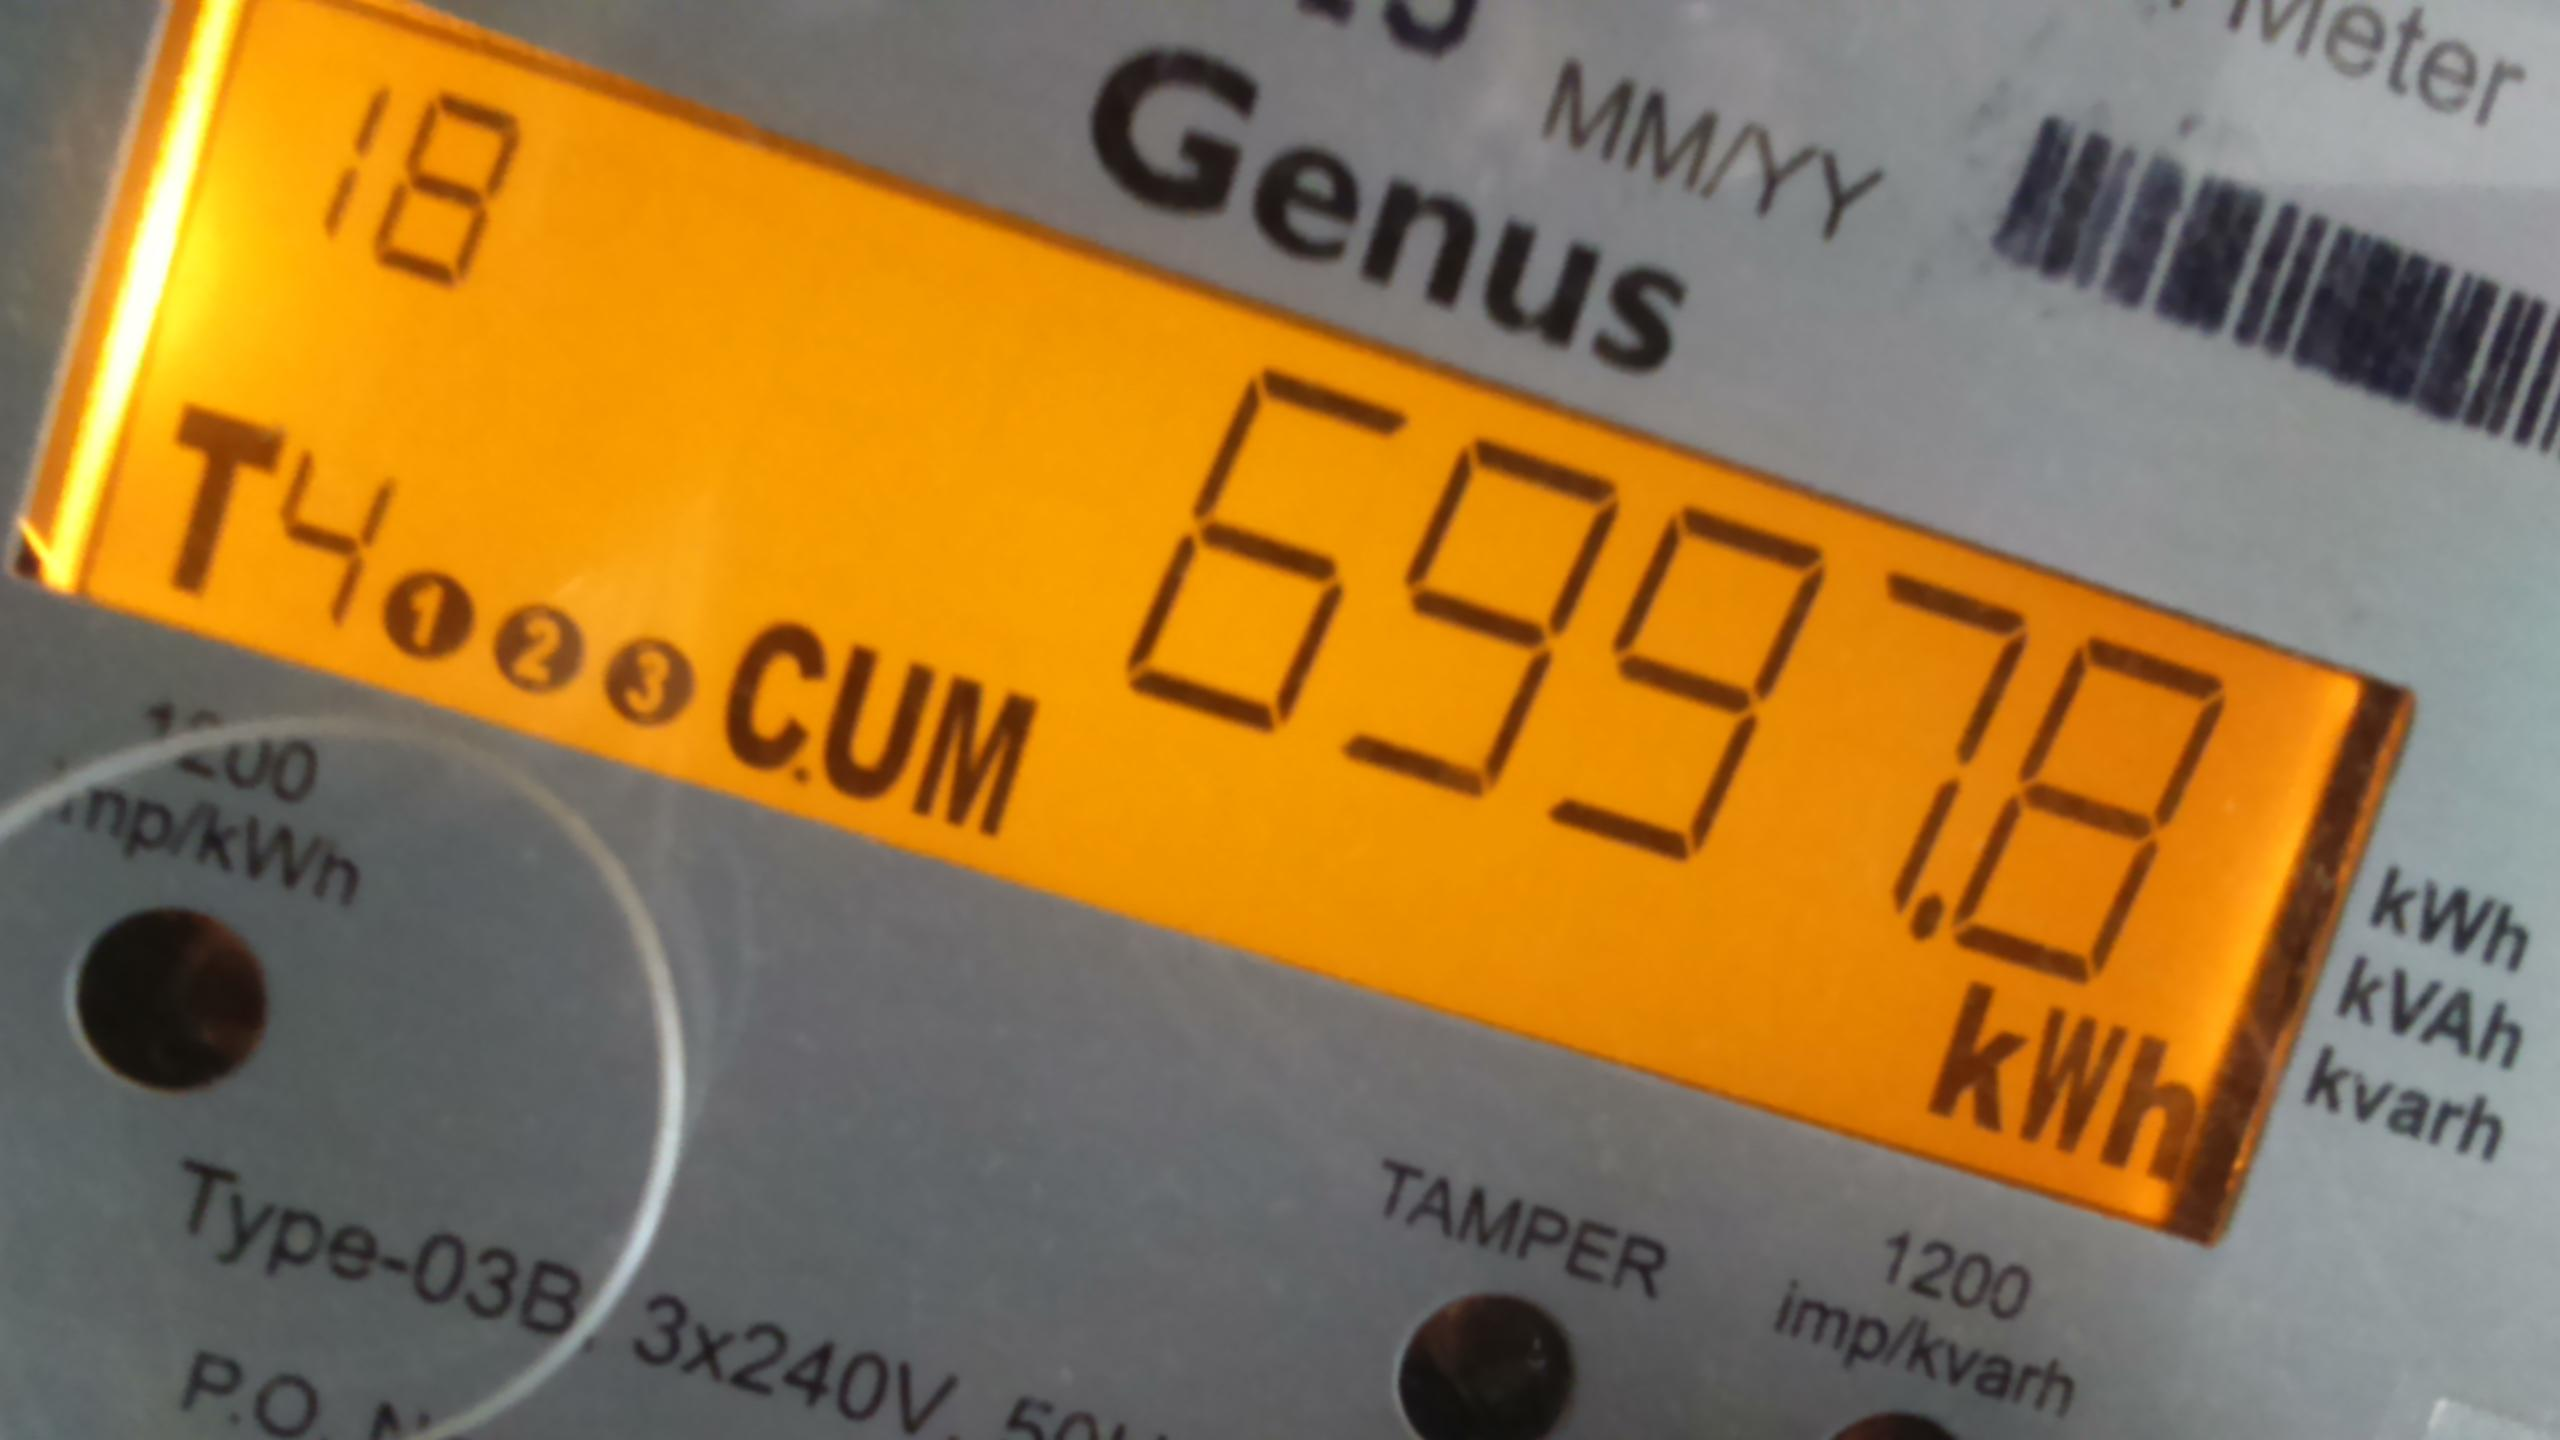.: (1922, 980, 2201, 1224)
0: (1887, 838, 1982, 962)
7: (1114, 333, 1402, 713)
8: (1787, 553, 2017, 936)
9: (1991, 603, 2257, 996)
object: (1351, 383, 1617, 852), (1524, 453, 1797, 892)
